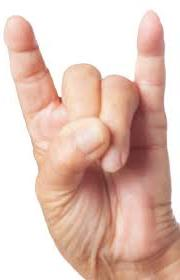Rock: (2, 5, 178, 277)
